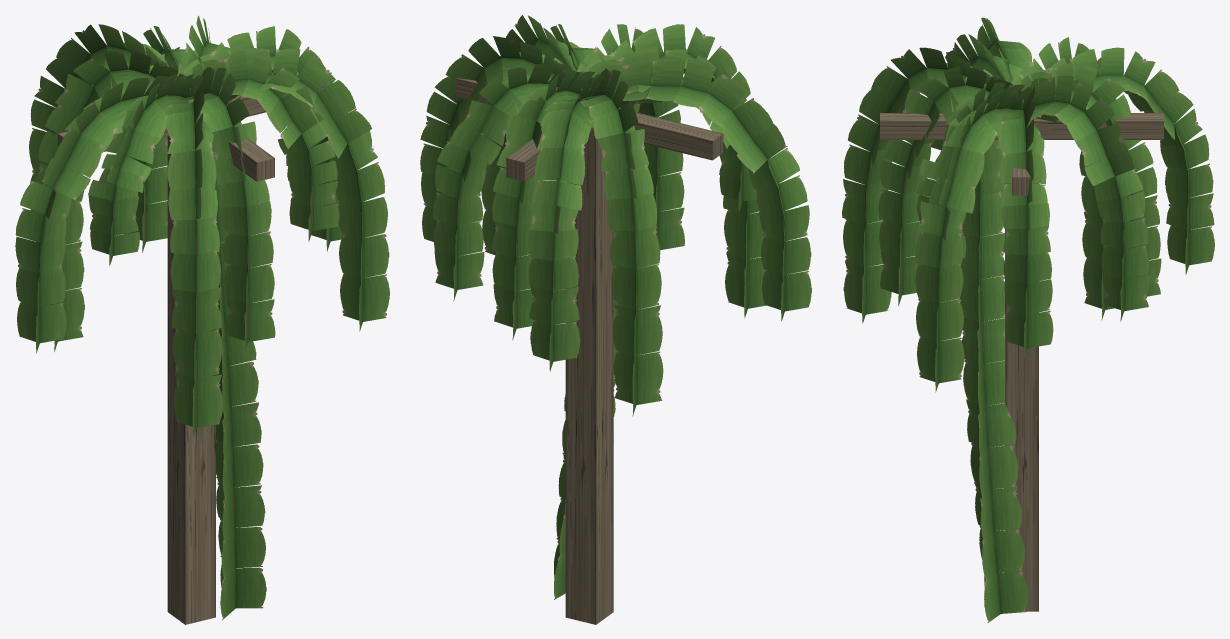
The model's file is dragonfruit_4.obj.
3 renders of one model, left to right at view 1: azimuth 30°, elevation 25°; view 2: azimuth 150°, elevation 25°; view 3: azimuth 270°, elevation 25°, orthographic. The views are drawn at different scales.
Parts seen in each view (by area): view 1: dragonfruit; view 2: dragonfruit; view 3: dragonfruit.
Boxes of the visible parts, box(x1,y1,x2,y2) form: dragonfruit: box(15, 15, 389, 624); dragonfruit: box(420, 15, 811, 624); dragonfruit: box(842, 17, 1214, 622).
Bounding box in the file's own units: 1.17 × 1.77 × 1.11.
